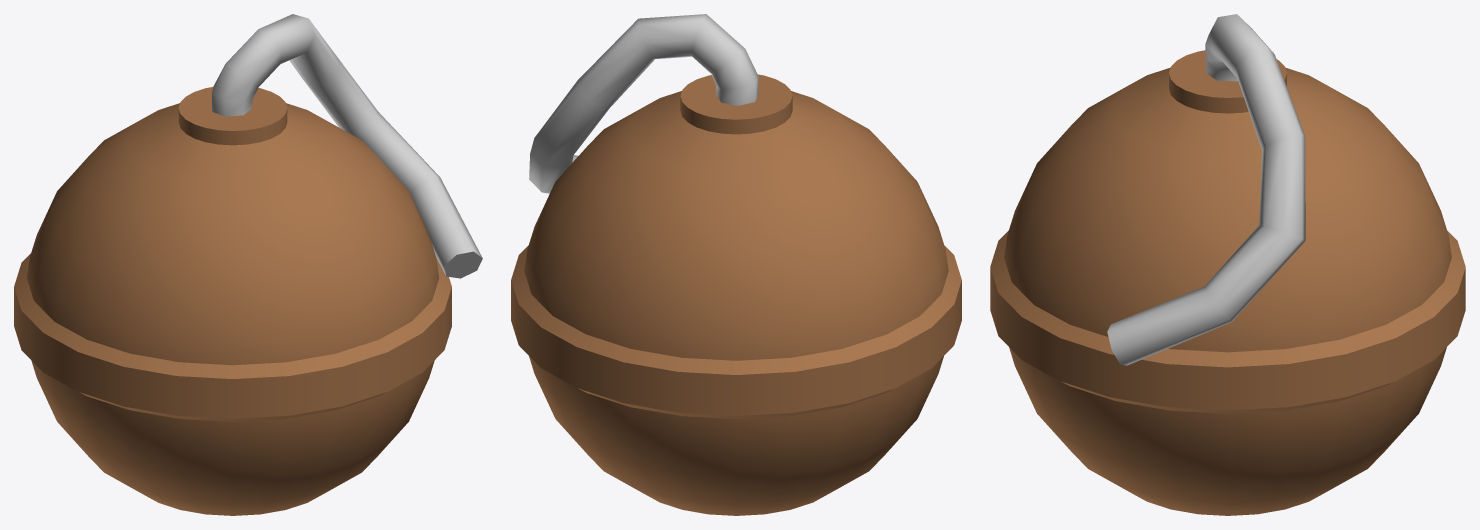
Rendered from Bomb.fbx.
3 views of the same model, side by side, from view 1: azimuth 30°, elevation 25°; view 2: azimuth 150°, elevation 25°; view 3: azimuth 270°, elevation 25° (orthographic). The views are drawn at different scales.
Visible parts, largest first — view 1: Fuse_1; view 2: Fuse_1; view 3: Fuse_1.
Boxes of the visible parts, bbox=[...] form: Fuse_1: bbox=[14, 14, 482, 515]; Fuse_1: bbox=[511, 14, 961, 515]; Fuse_1: bbox=[990, 14, 1465, 515].
Size of the model in its own units: 43.13 by 48.03 by 41.65.
